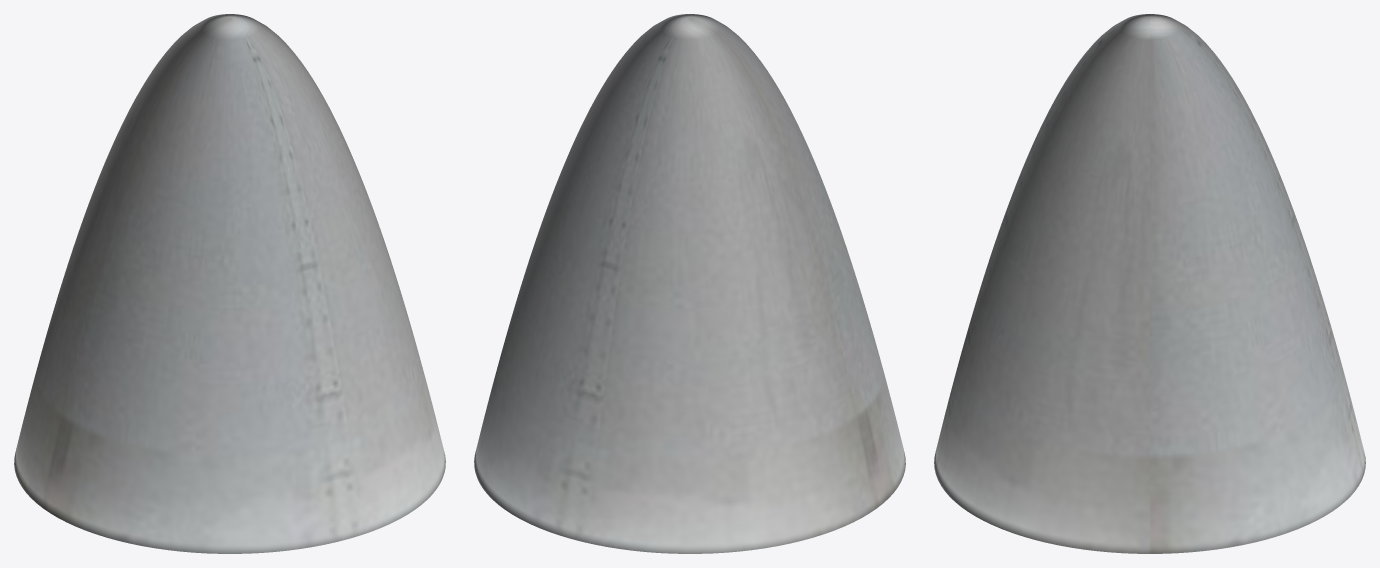
File: sideTop.obj
The picture shows the model from 3 angles, left to right: view 1: azimuth 30°, elevation 25°; view 2: azimuth 150°, elevation 25°; view 3: azimuth 270°, elevation 25°; orthographic projection.
Bounding box in the file's own units: 1.32 × 1.5 × 1.32.
1 material, 1 textured.
